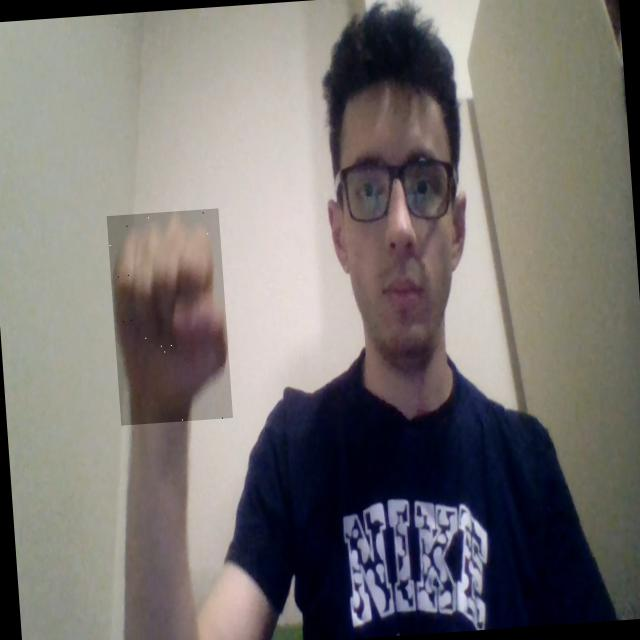yes: (106, 208, 233, 425)
